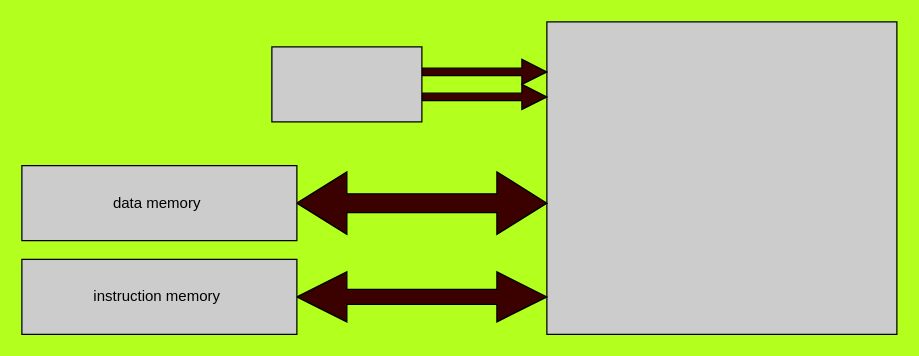
The diagram is 919 pixels wide and 356 high, and some of its shapes have lost their labels. Here are the shapes that lost their labels. From the top down, the centre of each, then its label:
At (346,84): "Clock and Reset".
At (721,177): "RV64 WITH 64 INSTRUCTION SUPPORT".
